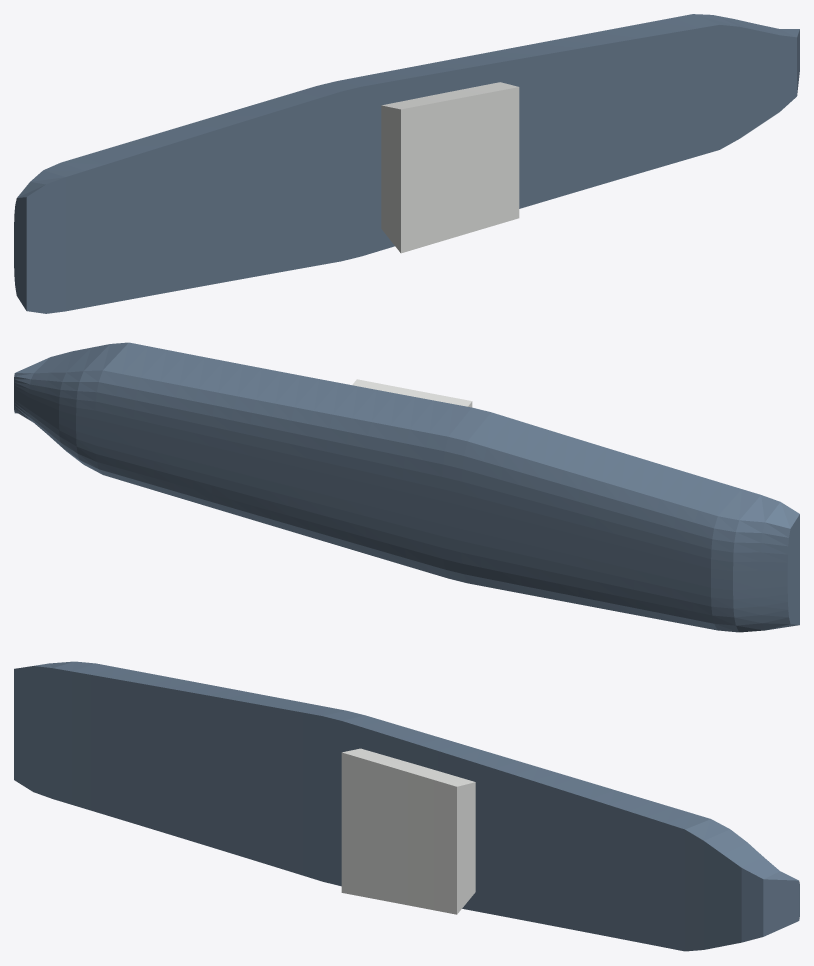
Rendered from open-loft-slender.glb.
The picture shows the model from 3 angles, top to bottom: view 1: azimuth 30°, elevation 25°; view 2: azimuth 150°, elevation 25°; view 3: azimuth 330°, elevation 25°; orthographic projection. The views are drawn at different scales.
Parts seen in each view (by area): view 1: open-loft-slender; view 2: open-loft-slender; view 3: open-loft-slender.
Part boxes in pixels (x1=…): open-loft-slender: x1=14, y1=14, x2=799, y2=313; open-loft-slender: x1=14, y1=342, x2=799, y2=632; open-loft-slender: x1=14, y1=661, x2=799, y2=951.
Bounding box in the file's own units: 1.7 × 0.3495 × 0.1913.
